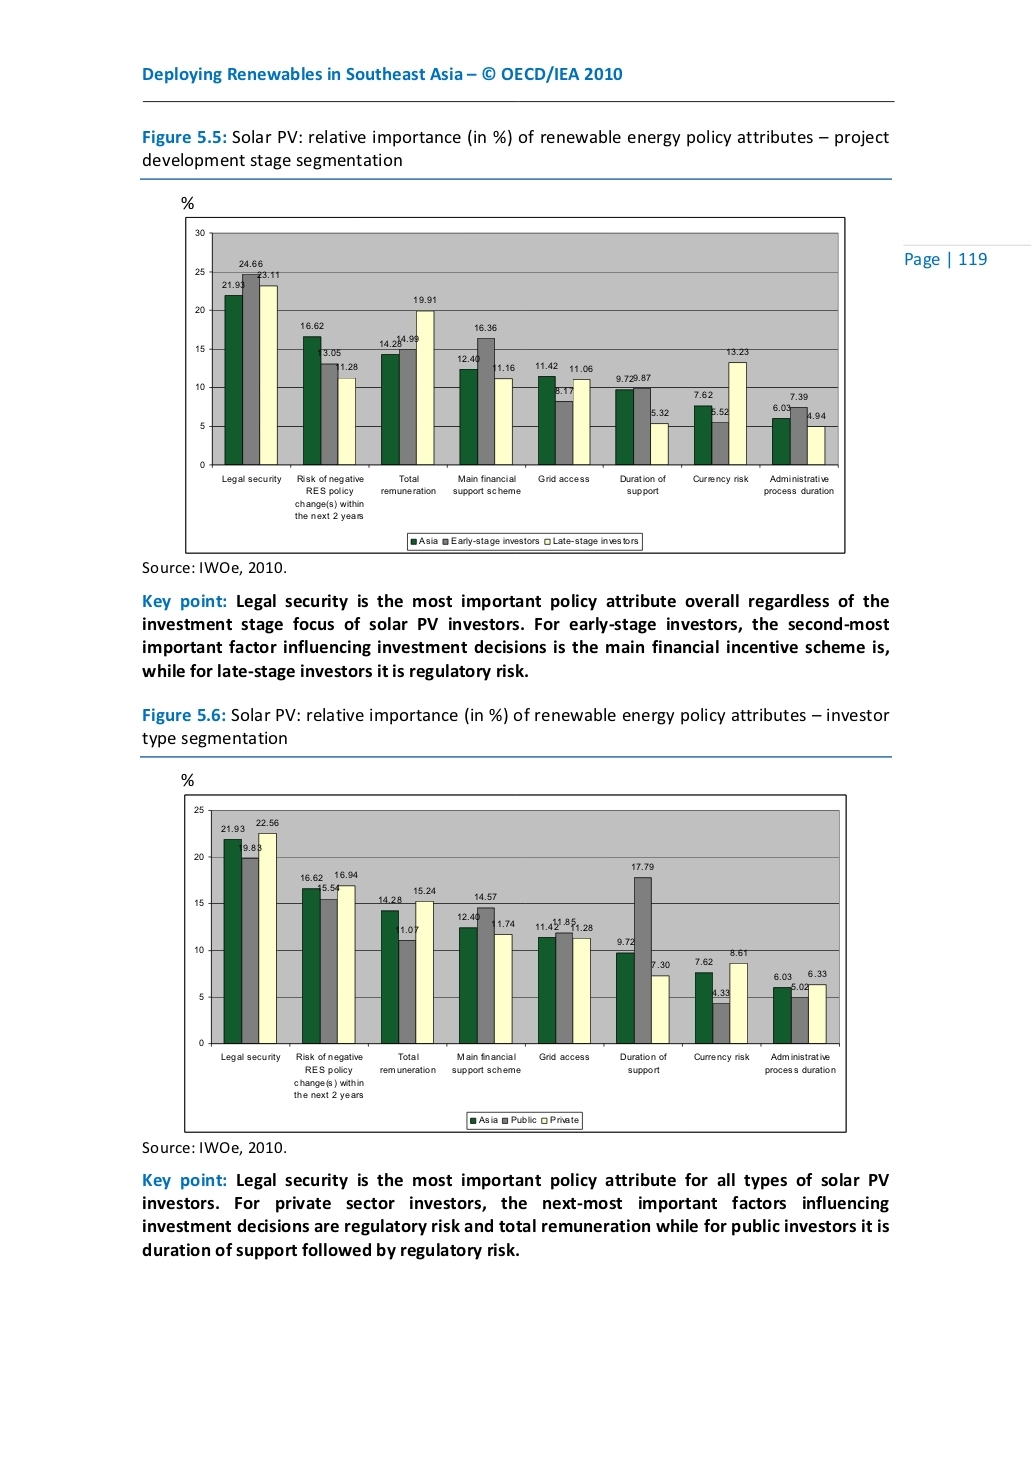figure: (184, 791, 845, 1133), (185, 215, 845, 554)
